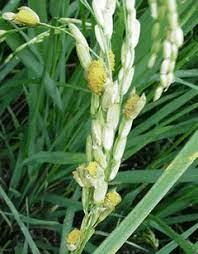False Smut: (80, 56, 117, 99), (75, 152, 114, 190), (119, 92, 149, 129), (59, 229, 92, 254), (12, 9, 49, 31), (104, 191, 119, 224)
